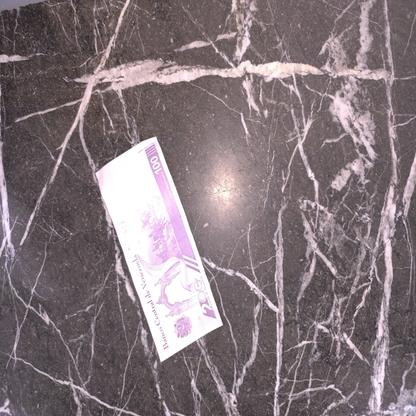one_hundred-back-vef: (94, 136, 224, 363)
